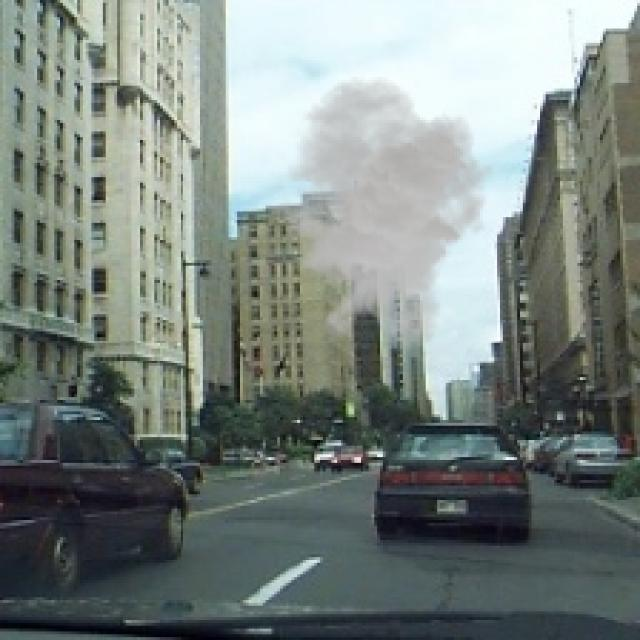smoke: (260, 77, 494, 352)
